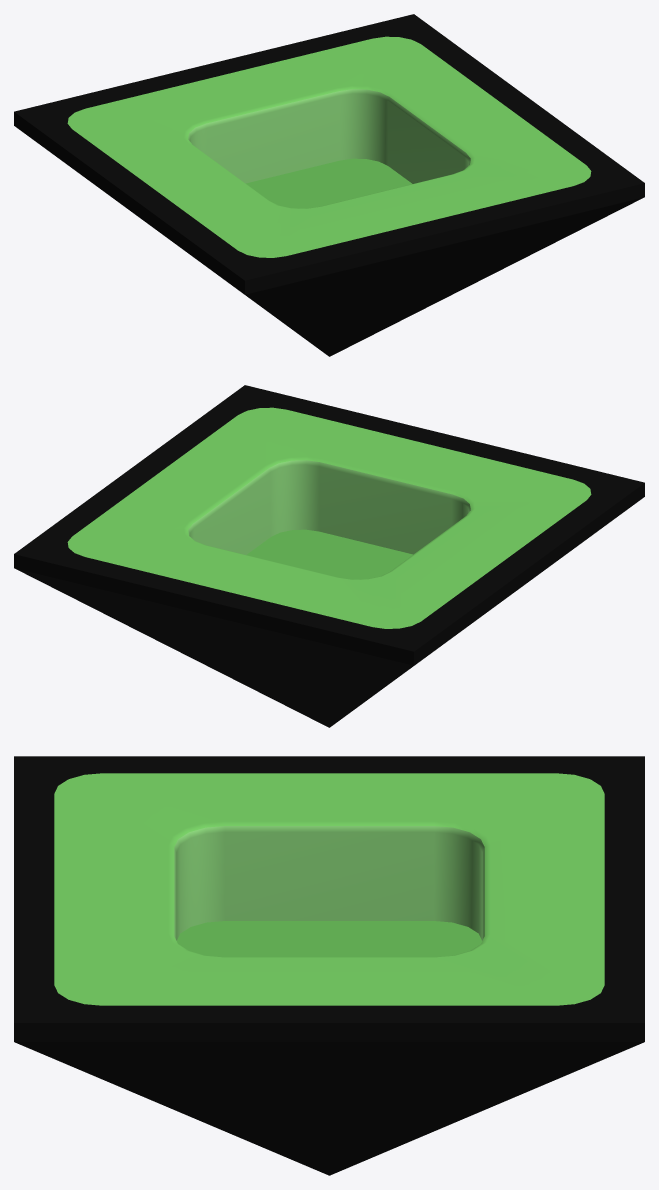
The model's file is Cell Green.fbx.
3 renders of one model, top to bottom at view 1: azimuth 30°, elevation 25°; view 2: azimuth 150°, elevation 25°; view 3: azimuth 270°, elevation 25°, orthographic. The views are drawn at different scales.
Parts seen in each view (by area): view 1: Cell_Green; view 2: Cell_Green; view 3: Cell_Green.
Part boxes in pixels (x1,y1,x2,y2): Cell_Green: (14, 14, 644, 356); Cell_Green: (14, 385, 644, 727); Cell_Green: (14, 756, 644, 1175).
Bounding box in the file's own units: 100 × 50.06 × 100.
